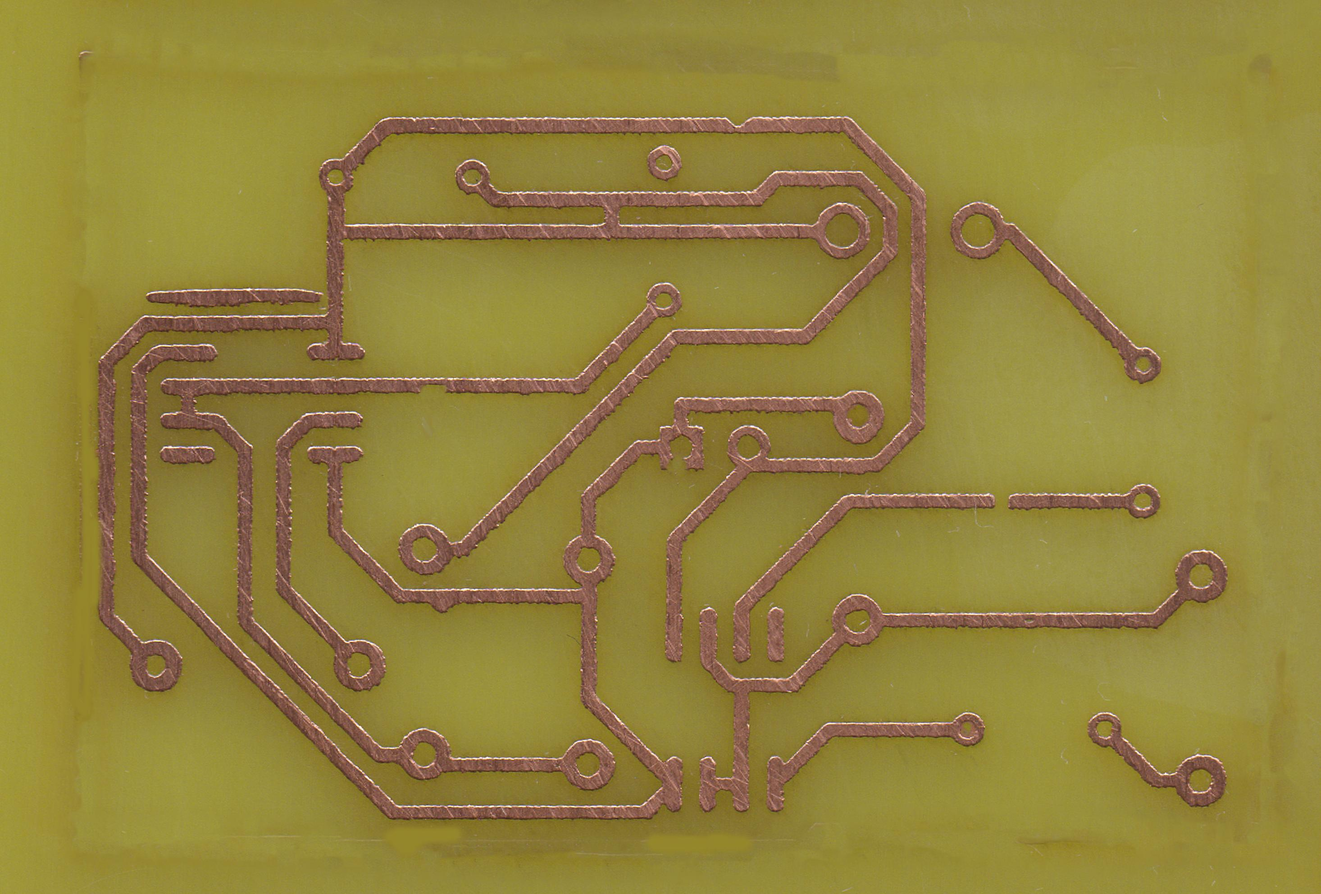missing_hole: (659, 427, 702, 472)
mouse_bite: (409, 375, 457, 399), (711, 114, 759, 136)
open_circuit: (976, 490, 1027, 511)
short: (590, 187, 630, 238)
spur: (427, 586, 462, 617)
spurious_copper: (140, 287, 327, 306)
